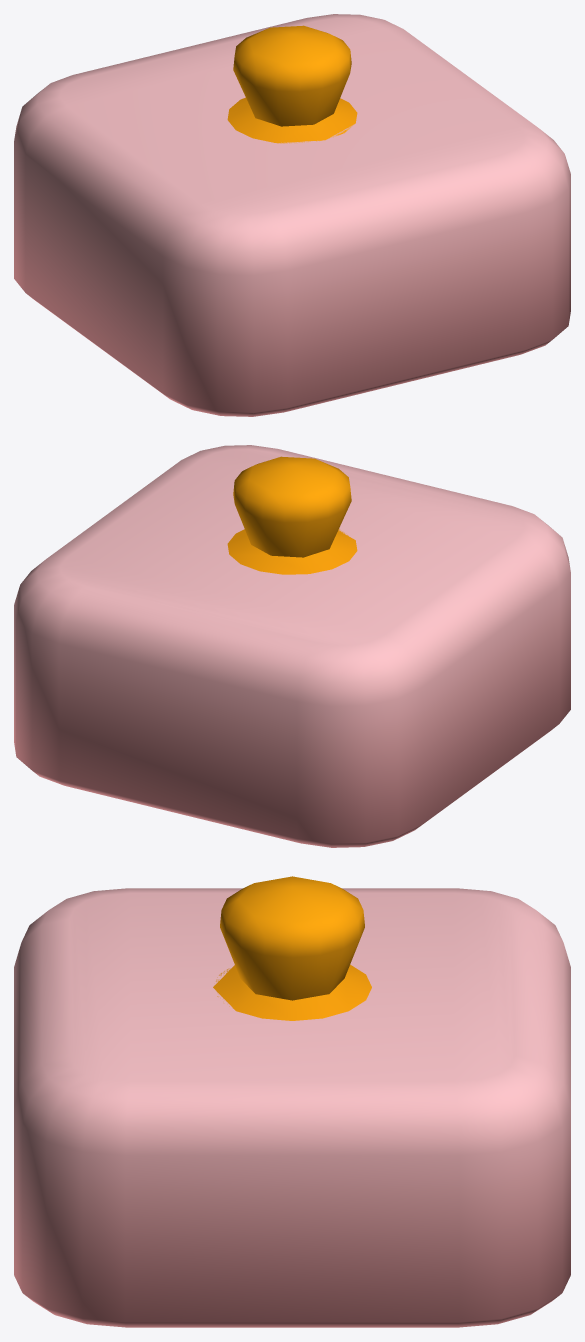
The model's file is Grill_01_Cover.glb.
3 views of the same model, one above another, from view 1: azimuth 30°, elevation 25°; view 2: azimuth 150°, elevation 25°; view 3: azimuth 270°, elevation 25° (orthographic). The views are drawn at different scales.
Visible parts, largest first — view 1: Grill_01_Cover; view 2: Grill_01_Cover; view 3: Grill_01_Cover.
Boxes of the visible parts, x1,y1,x2,y2 form: Grill_01_Cover: (14,14,570,416); Grill_01_Cover: (14,445,570,847); Grill_01_Cover: (14,876,570,1327).
Bounding box in the file's own units: 0.2749 × 0.1784 × 0.2749.
Materials: 2 (2 with a texture image).
